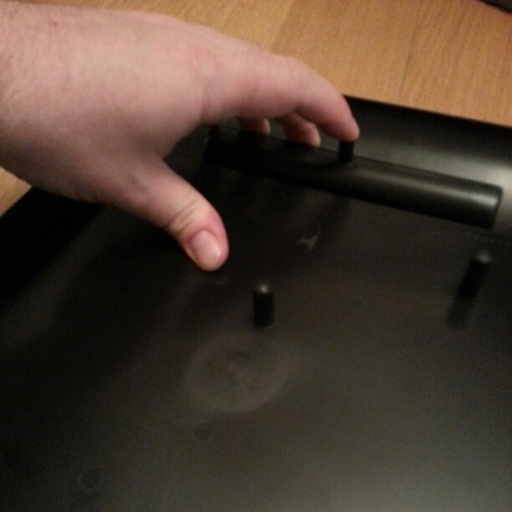hand: (0, 0, 363, 271)
